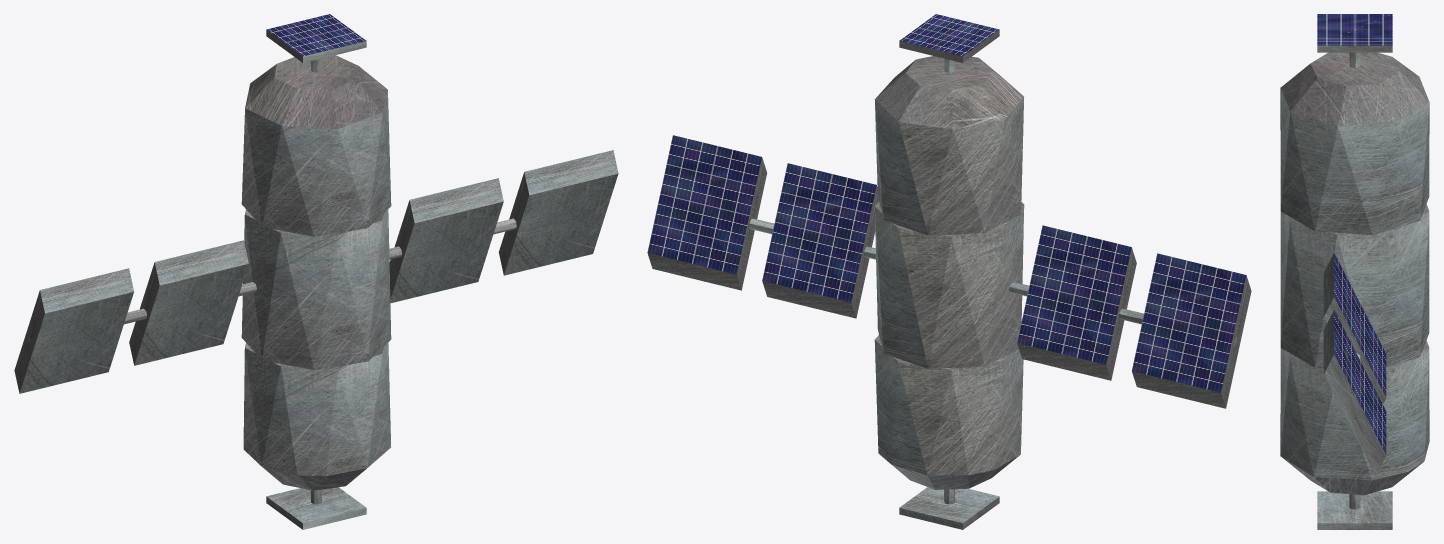
Rendered from satelite3.fbx.
3 renders of one model, left to right at view 1: azimuth 30°, elevation 25°; view 2: azimuth 150°, elevation 25°; view 3: azimuth 270°, elevation 25°, orthographic. The views are drawn at different scales.
Parts seen in each view (by area): view 1: satelite3; view 2: satelite3; view 3: satelite3.
Part boxes in pixels (bbox=[...]): satelite3: bbox=[14, 14, 618, 529]; satelite3: bbox=[647, 14, 1251, 529]; satelite3: bbox=[1280, 14, 1429, 529].
Size of the model in its own units: 855 by 675 by 188.
Materials: 2 (2 with a texture image).
